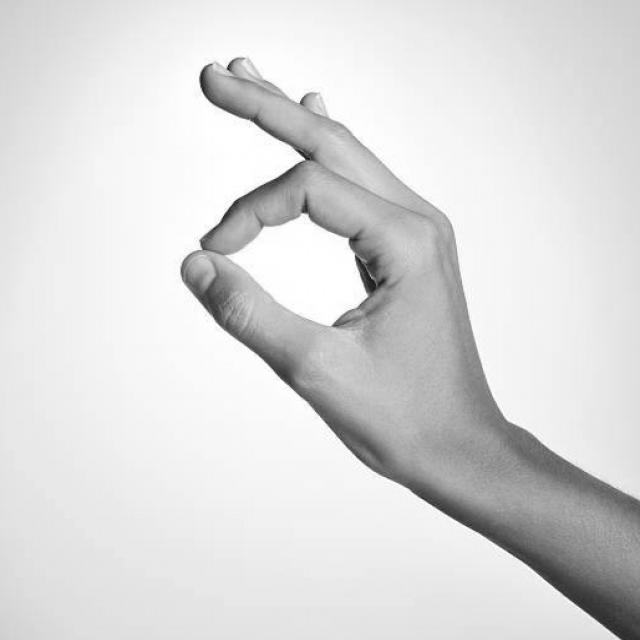perfect: (169, 42, 509, 536)
